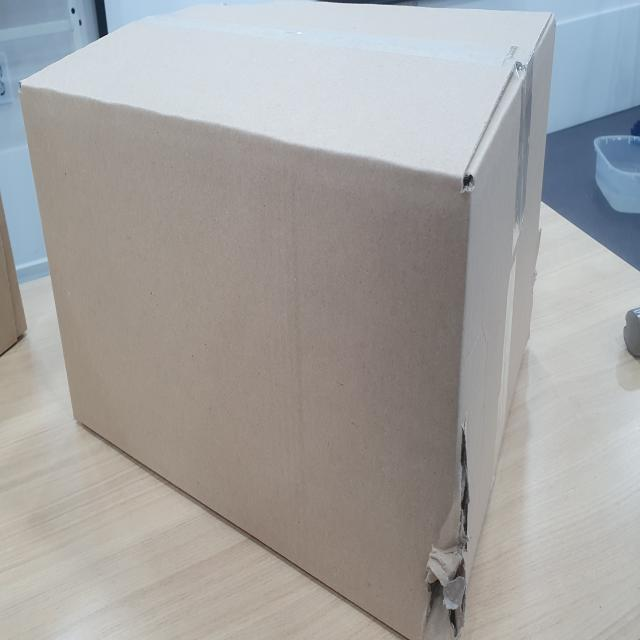hole: (417, 440, 471, 628)
